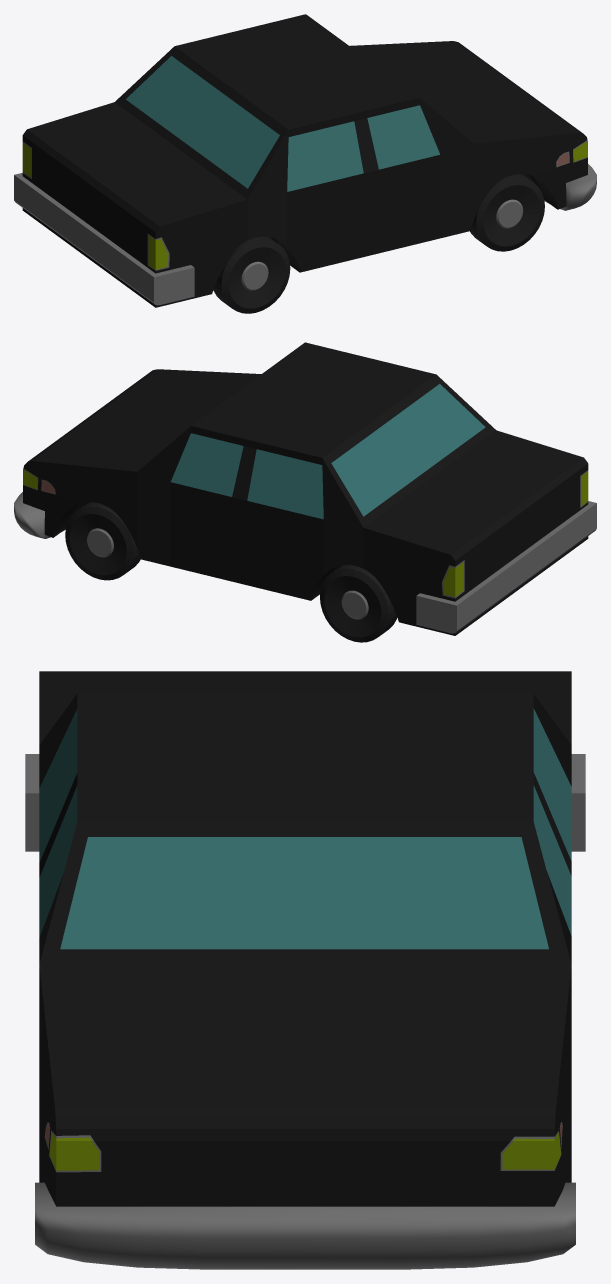
The model's file is auto negro.fbx.
3 views of the same model, one above another, from view 1: azimuth 30°, elevation 25°; view 2: azimuth 150°, elevation 25°; view 3: azimuth 270°, elevation 25° (orthographic). The views are drawn at different scales.
Parts seen in each view (by area): view 1: Cube, Cylinder, Cube.002; view 2: Cube, Cylinder, Cube.002; view 3: Cube, Cube.002.
Boxes of the visible parts, left/top/right/bottom form: Cube: left=22, top=14, right=587, bottom=307; Cylinder: left=213, top=174, right=544, bottom=313; Cube.002: left=14, top=164, right=596, bottom=305; Cube: left=23, top=342, right=588, bottom=635; Cylinder: left=65, top=502, right=397, bottom=642; Cube.002: left=14, top=492, right=596, bottom=633; Cube: left=39, top=671, right=571, bottom=1206; Cube.002: left=25, top=754, right=585, bottom=1269.
Bounding box in the file's own units: 396 × 211 × 140.
